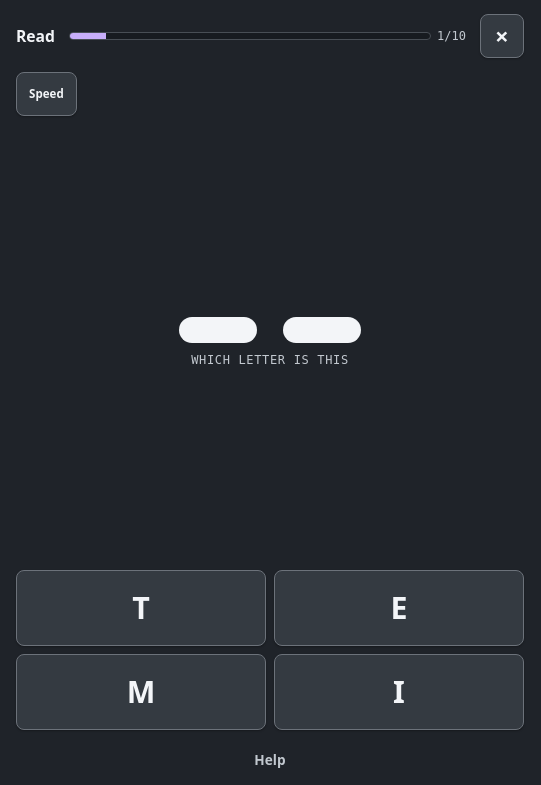
it: LetterPracticeRun Speed variant › is a toggle inside Read and Listen, not a separate mode, and is absent from Key
This screenshot has width=541, height=785.
Click the button "Speed": x=46, y=94 [16, 72, 77, 116]
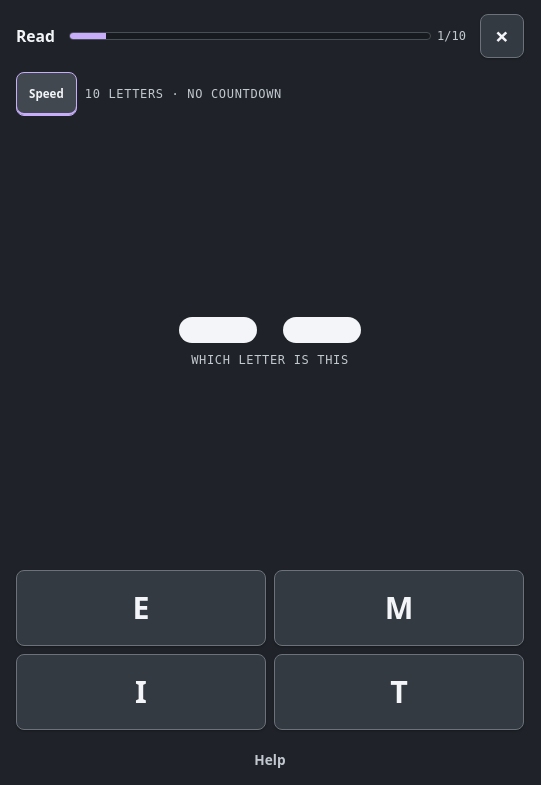
Check: the text "10 letters · no countdown" is shown, box [85, 85, 282, 103]
